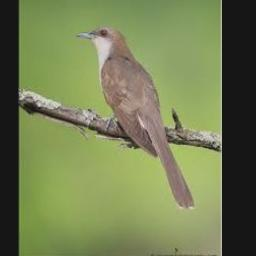Cuckoo: (76, 27, 194, 208)
